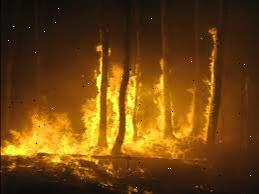fire: (0, 23, 229, 166)
